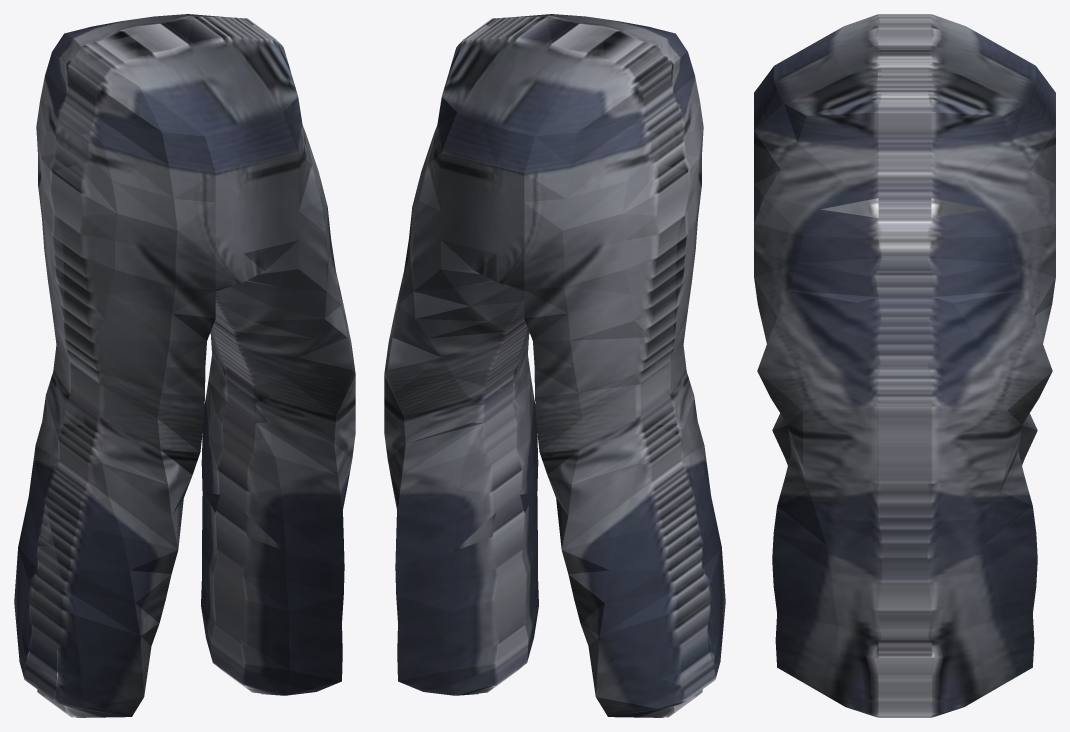
File: hjc-vector-riding-trouser-032.glb
3 views of the same model, side by side, from view 1: azimuth 30°, elevation 25°; view 2: azimuth 150°, elevation 25°; view 3: azimuth 270°, elevation 25° (orthographic). The views are drawn at different scales.
Visible parts, largest first — view 1: world; view 2: world; view 3: world.
Boxes of the visible parts, x1,y1,x2,y2 form: world: [14, 14, 355, 717]; world: [384, 14, 725, 717]; world: [754, 14, 1055, 717].
Size of the model in its own units: 0.4509 by 1 by 0.44.
1 material, 1 textured.
